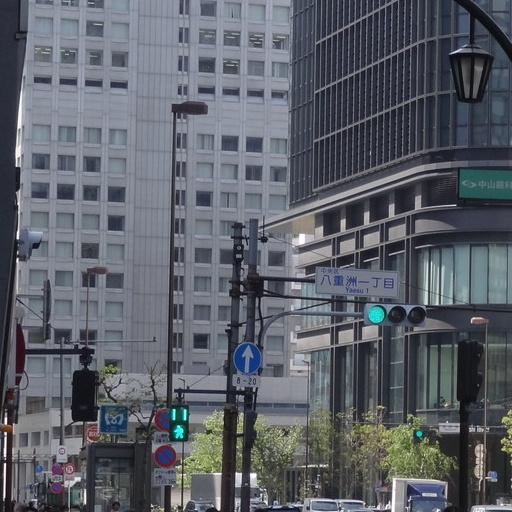Pedestrian_Signal_Blue: (163, 396, 192, 446)
Traffic_Signal_Blue: (358, 297, 434, 327)
